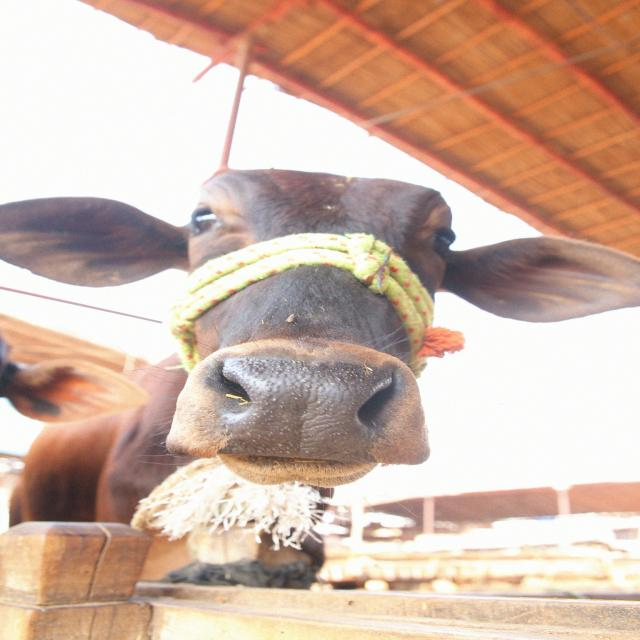muzzles: (182, 340, 422, 469)
